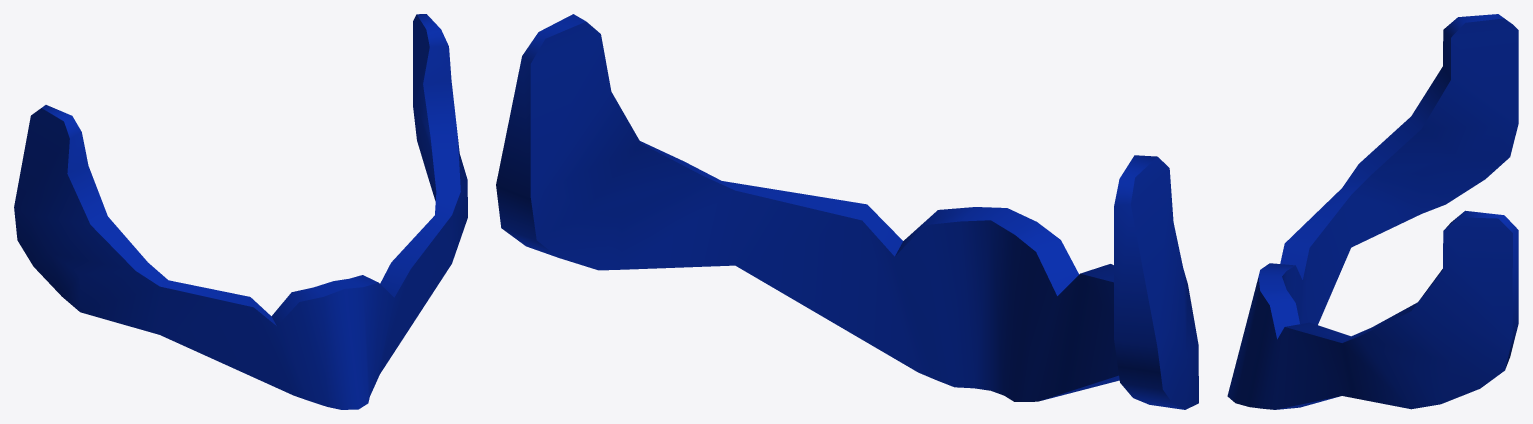
Rendered from Hair_23_C02.fbx.
The picture shows the model from 3 angles, left to right: view 1: azimuth 30°, elevation 25°; view 2: azimuth 150°, elevation 25°; view 3: azimuth 270°, elevation 25°; orthographic projection. The views are drawn at different scales.
Visible parts, largest first — view 1: Hair_23_C02; view 2: Hair_23_C02; view 3: Hair_23_C02.
Boxes of the visible parts, x1,y1,x2,y2 form: Hair_23_C02: (14, 14, 467, 409); Hair_23_C02: (496, 14, 1198, 409); Hair_23_C02: (1227, 14, 1518, 409).
Bounding box in the file's own units: 113 × 65.31 × 61.53.
